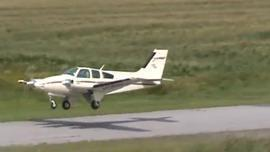aircraft: (17, 47, 170, 109)
